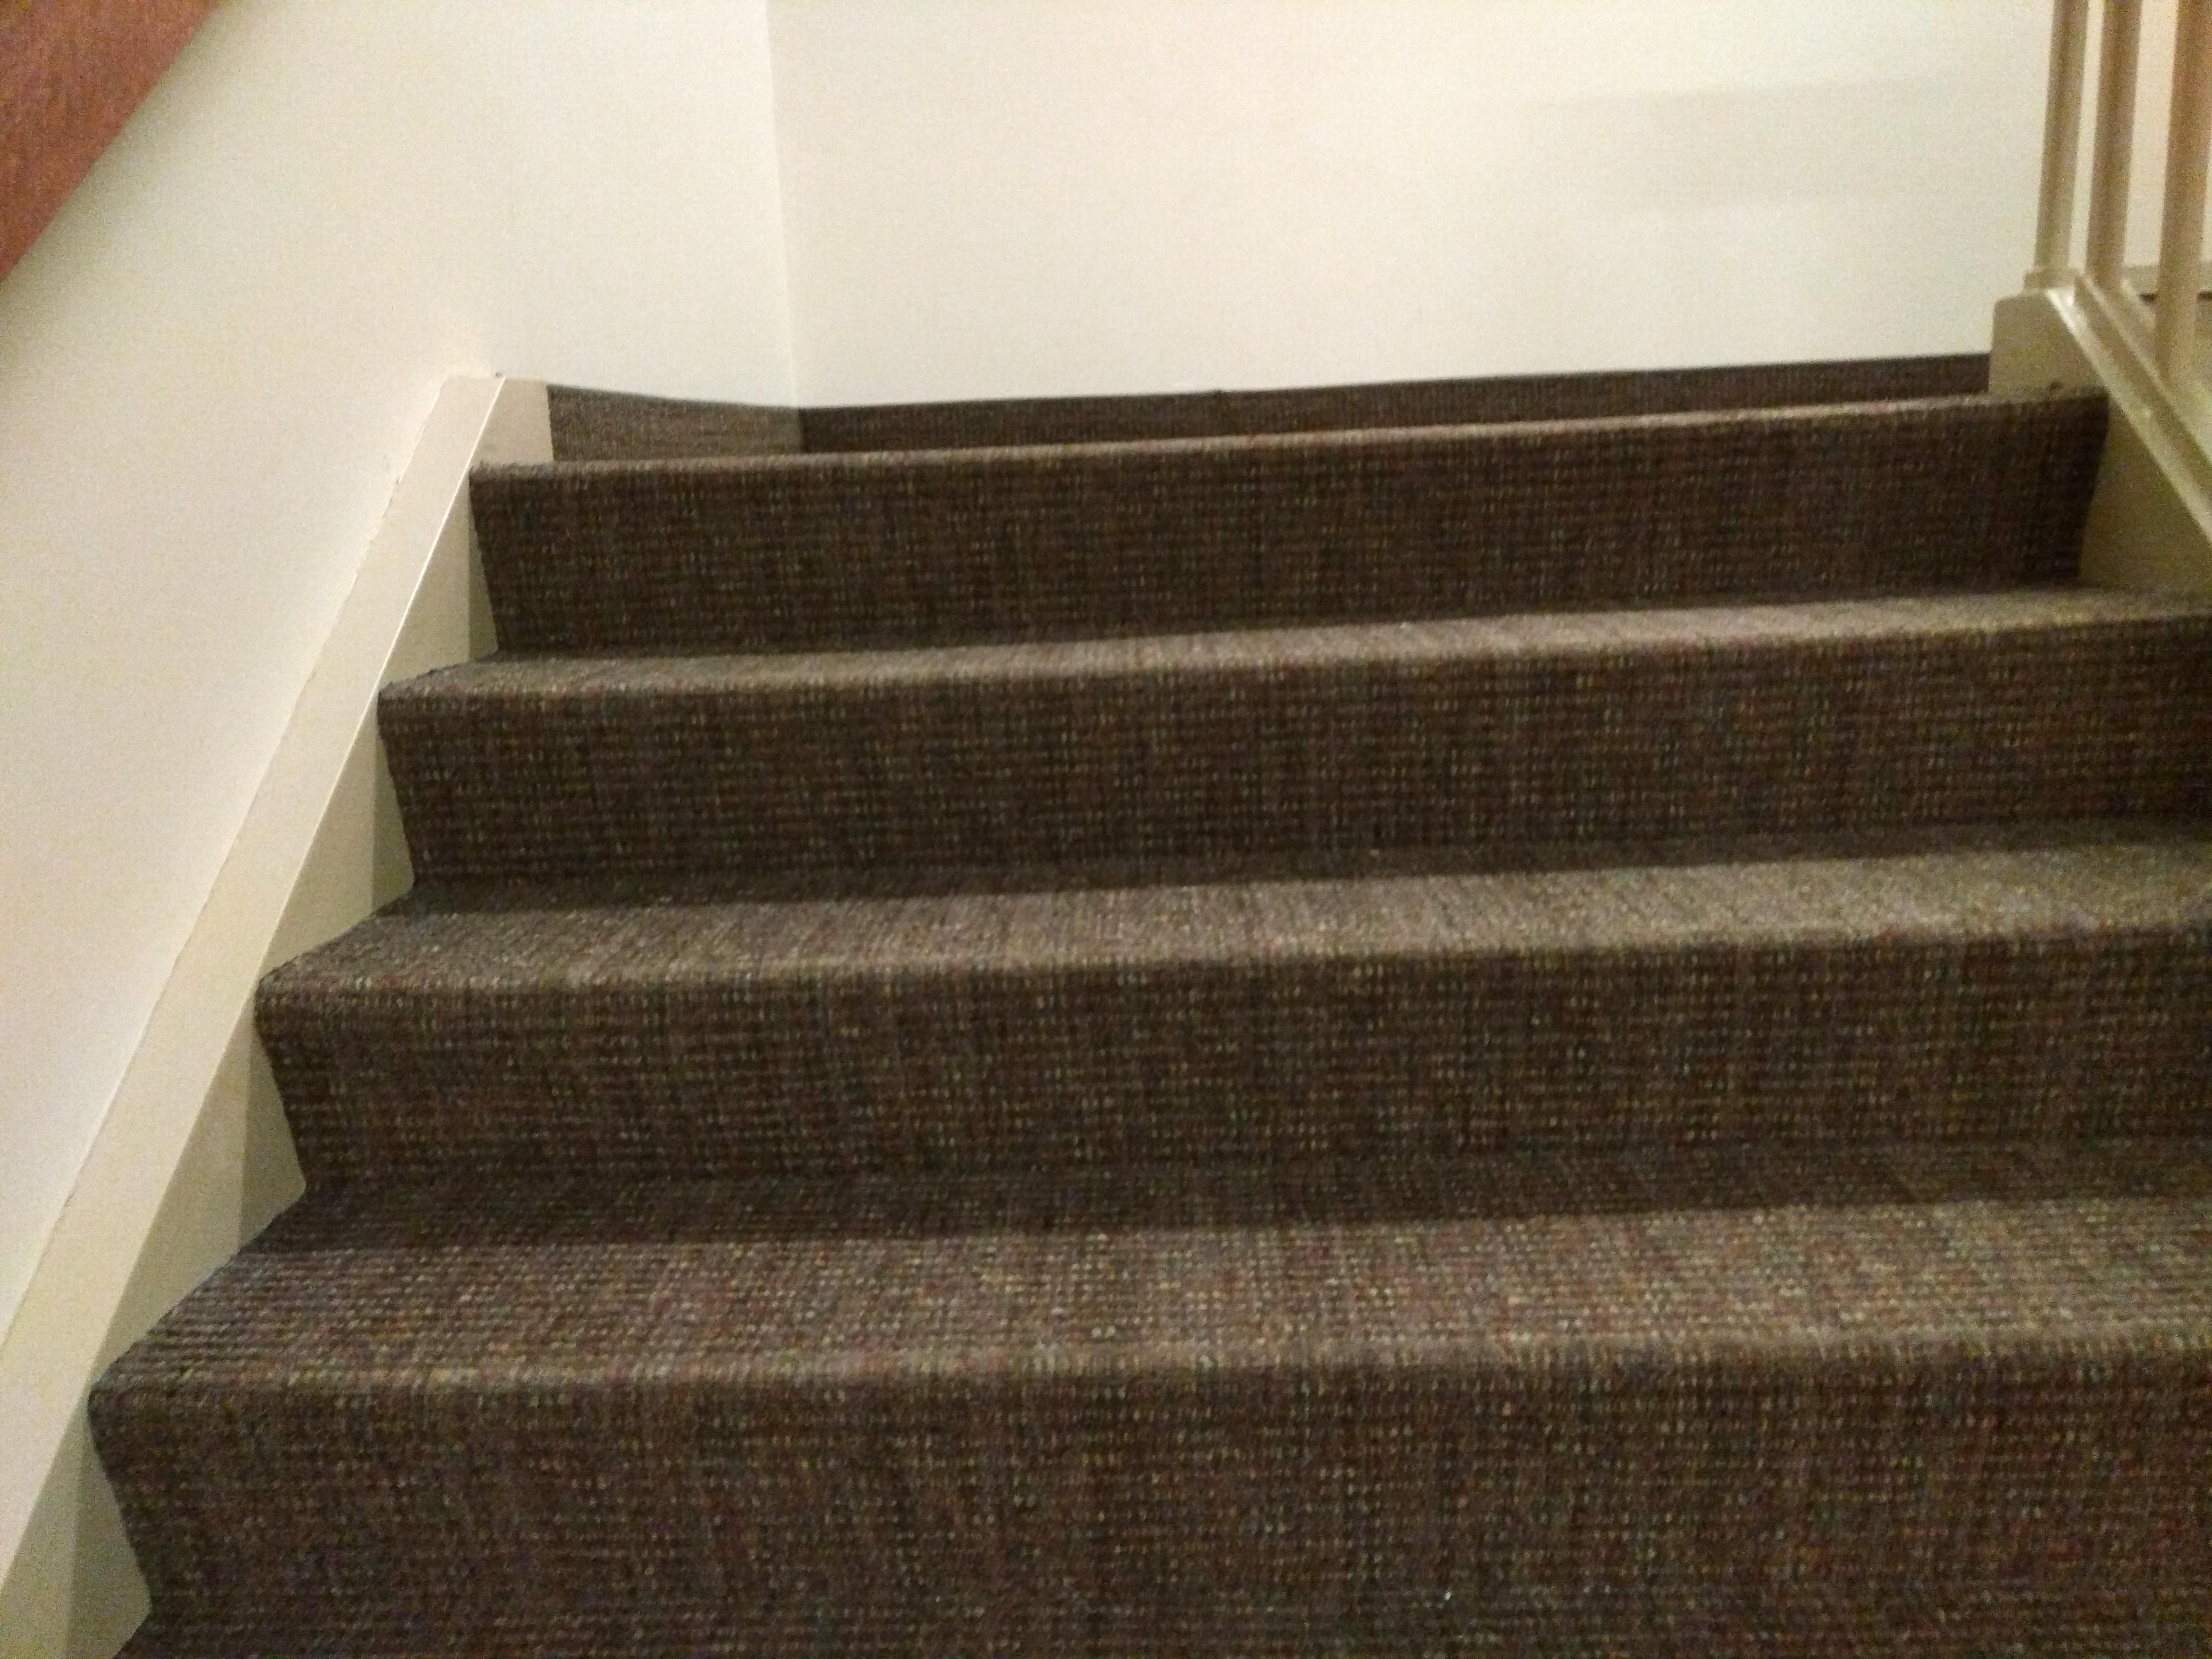stairs_up: (66, 376, 2212, 1537)
